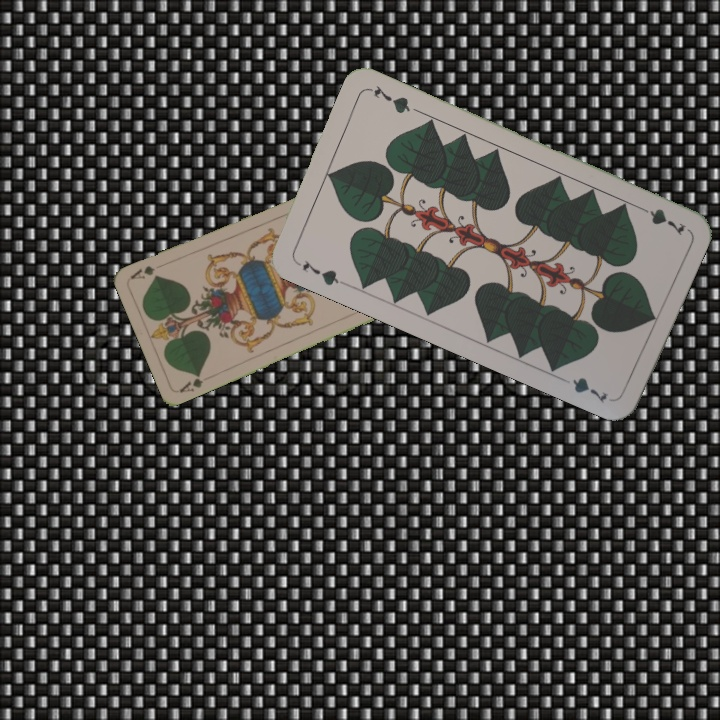G7: (632, 201, 688, 238), (292, 256, 347, 288)
GA: (175, 369, 206, 395)
